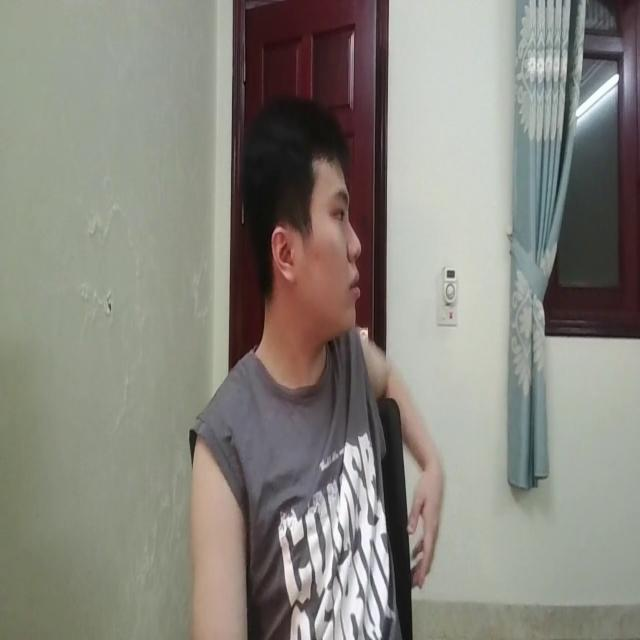student: (173, 94, 435, 640)
